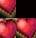heart: (0, 18, 16, 38), (0, 0, 16, 18)
